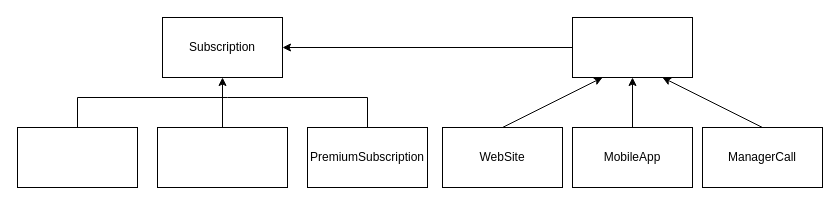
The diagram is 840 pixels wide and 205 high, and some of its shapes have lost their labels. Each missing label, with the centre of its shape:
DomesticSubscription: point 77,157
EducationalSubscription: point 222,157
SubscriptionCreator: point 632,47
